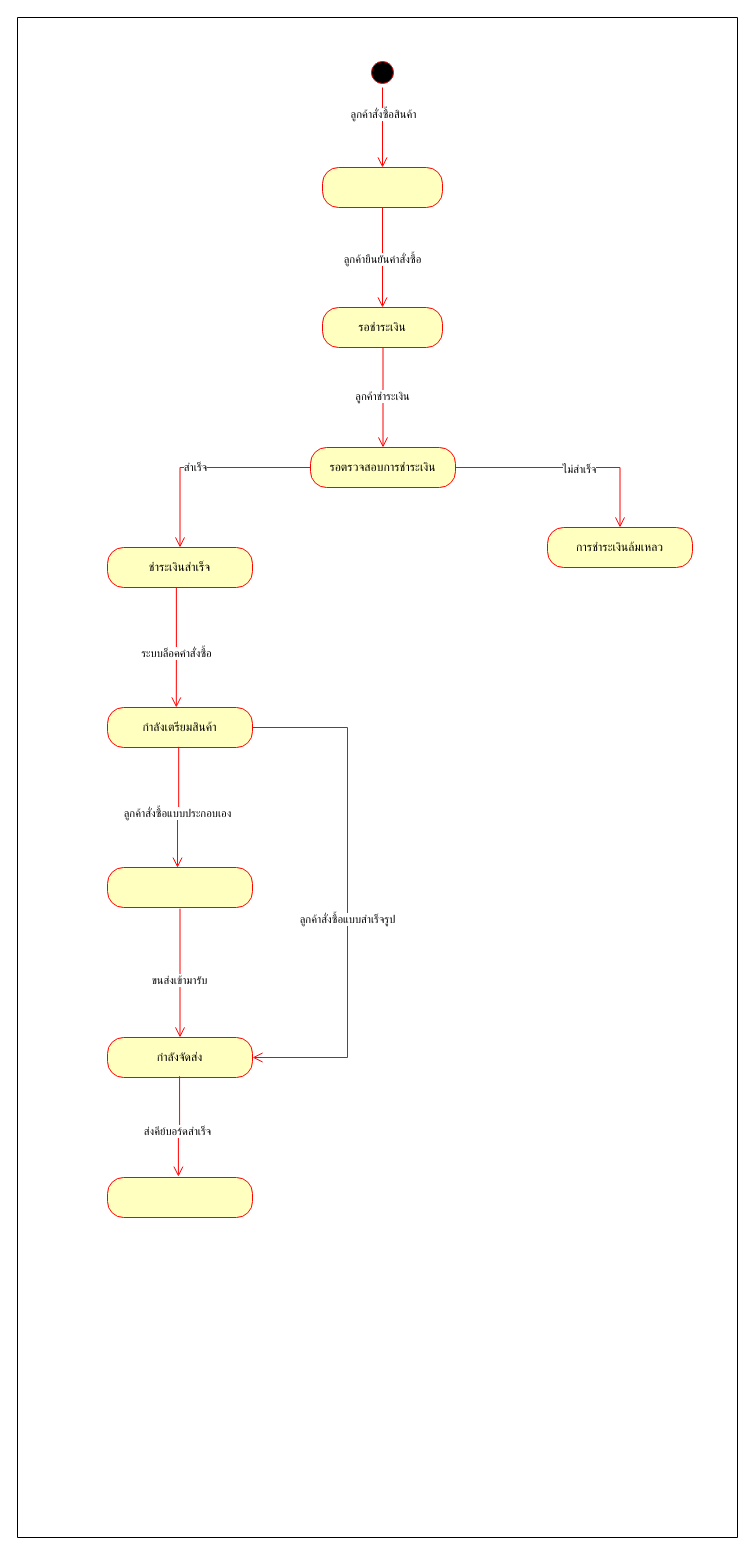
Some shapes in this 755 by 1555 pixel diagram are drawn without their labels. The shapes that lost their labels are listed below. From the top down, each one's centre as x and y in pixels, then its label:
At [382,187]: "สร้าง คำสั่งซื้อ".
At [179,887]: "กำลังดำเนินการ".
At [179,1197]: "จัดส่งสำเร็จ".
